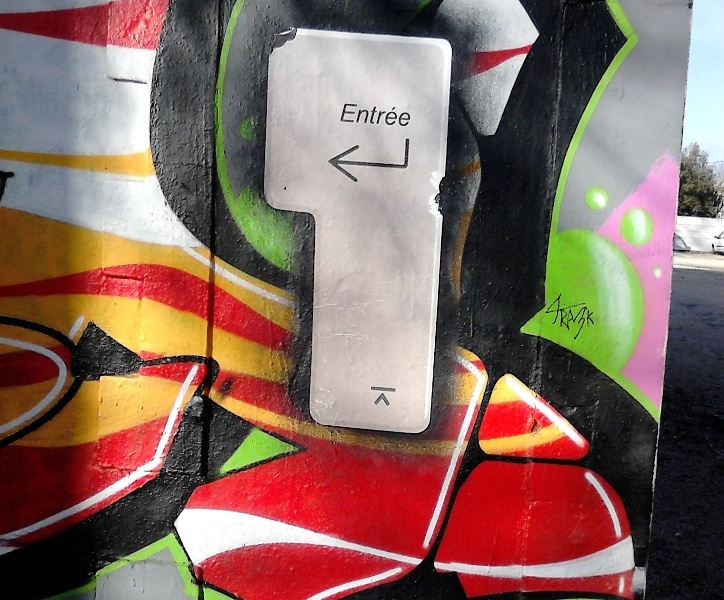text: (545, 296, 560, 344), (561, 296, 576, 344), (577, 296, 592, 344), (593, 296, 604, 344), (353, 103, 368, 128), (369, 103, 384, 128), (385, 103, 400, 128), (401, 103, 412, 128), (344, 103, 352, 128), (542, 296, 544, 344)
